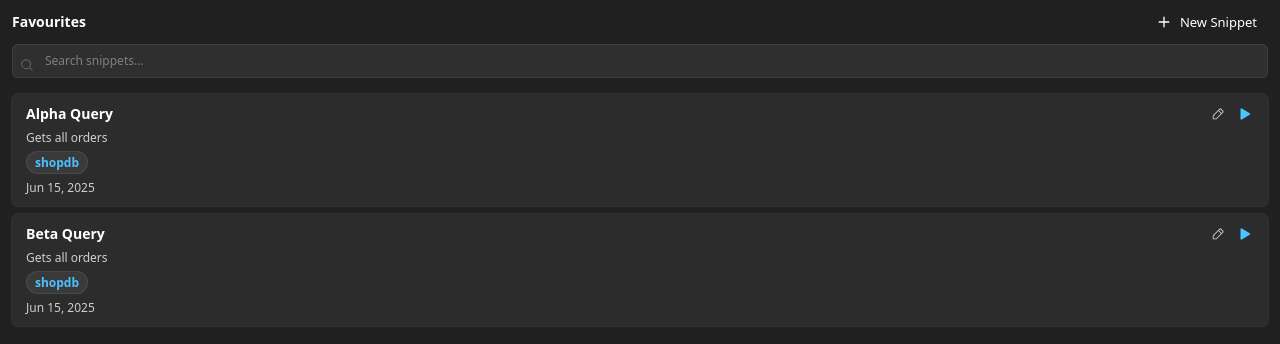
it: FavouritesView › search filters the list by name
The image size is (1280, 344).
Type "Alpha" into the field with test id "favourites-search".
click(640, 61); type("Alpha")  # box x1=12 y1=44 x2=1268 y2=78
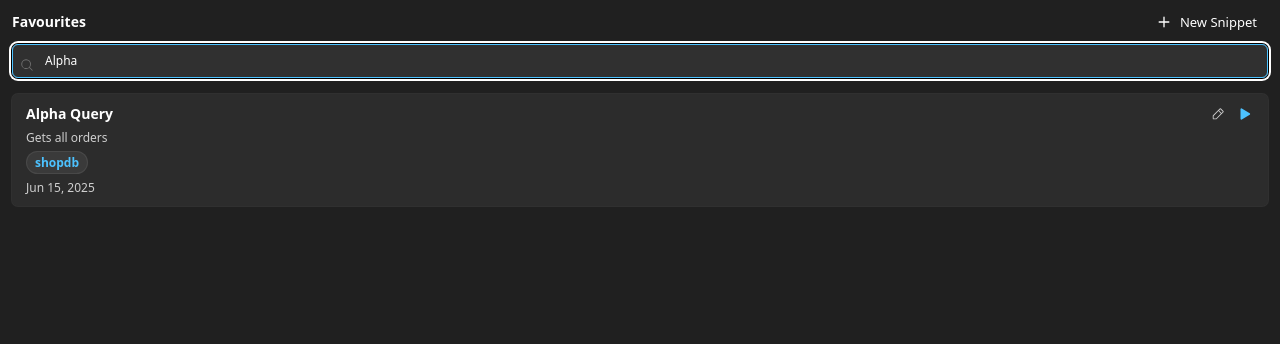
Expected: the button with test id "favourites-snippet-card-1" is shown, x1=12 y1=94 x2=1268 y2=206
Expected: the button with test id "favourites-snippet-card-2" is gone
